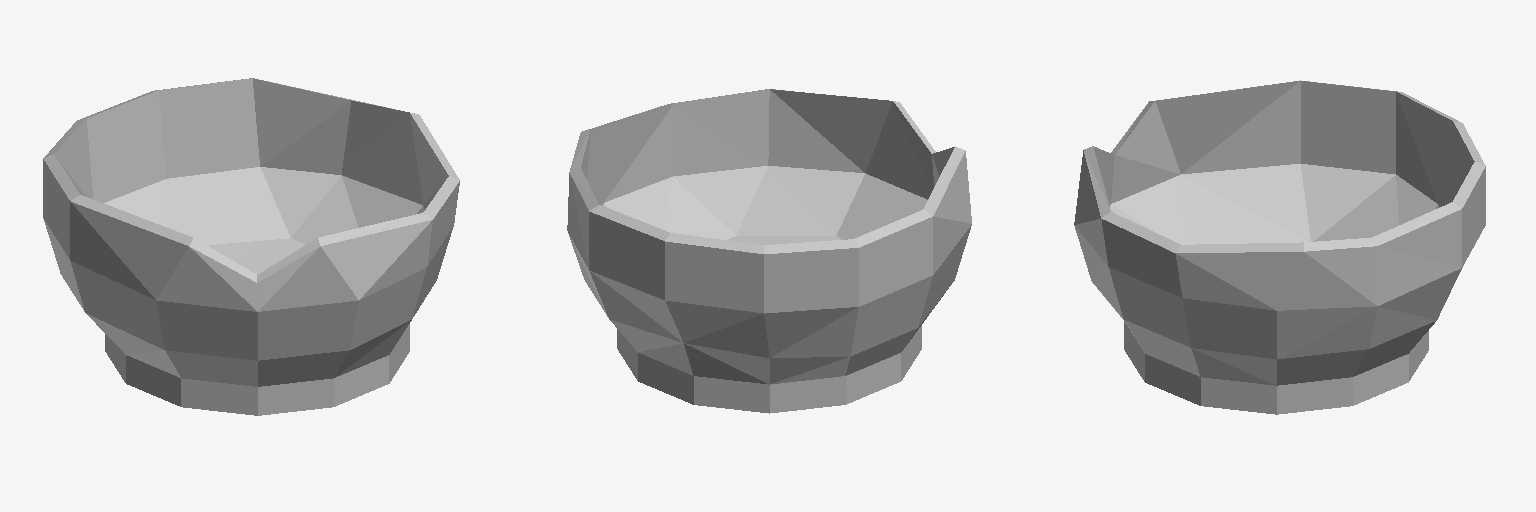
The model's file is bowl.obj.
The picture shows the model from 3 angles: view 1: azimuth 30°, elevation 25°; view 2: azimuth 150°, elevation 25°; view 3: azimuth 270°, elevation 25°; orthographic projection.
Visible parts, largest first — view 1: s4studio_mesh_1; view 2: s4studio_mesh_1; view 3: s4studio_mesh_1.
Boxes of the visible parts, x1,y1,x2,y2 form: s4studio_mesh_1: [43, 78, 459, 415]; s4studio_mesh_1: [567, 89, 971, 413]; s4studio_mesh_1: [1074, 80, 1485, 414].
Size of the model in its own units: 0.2184 by 0.1123 by 0.2219.